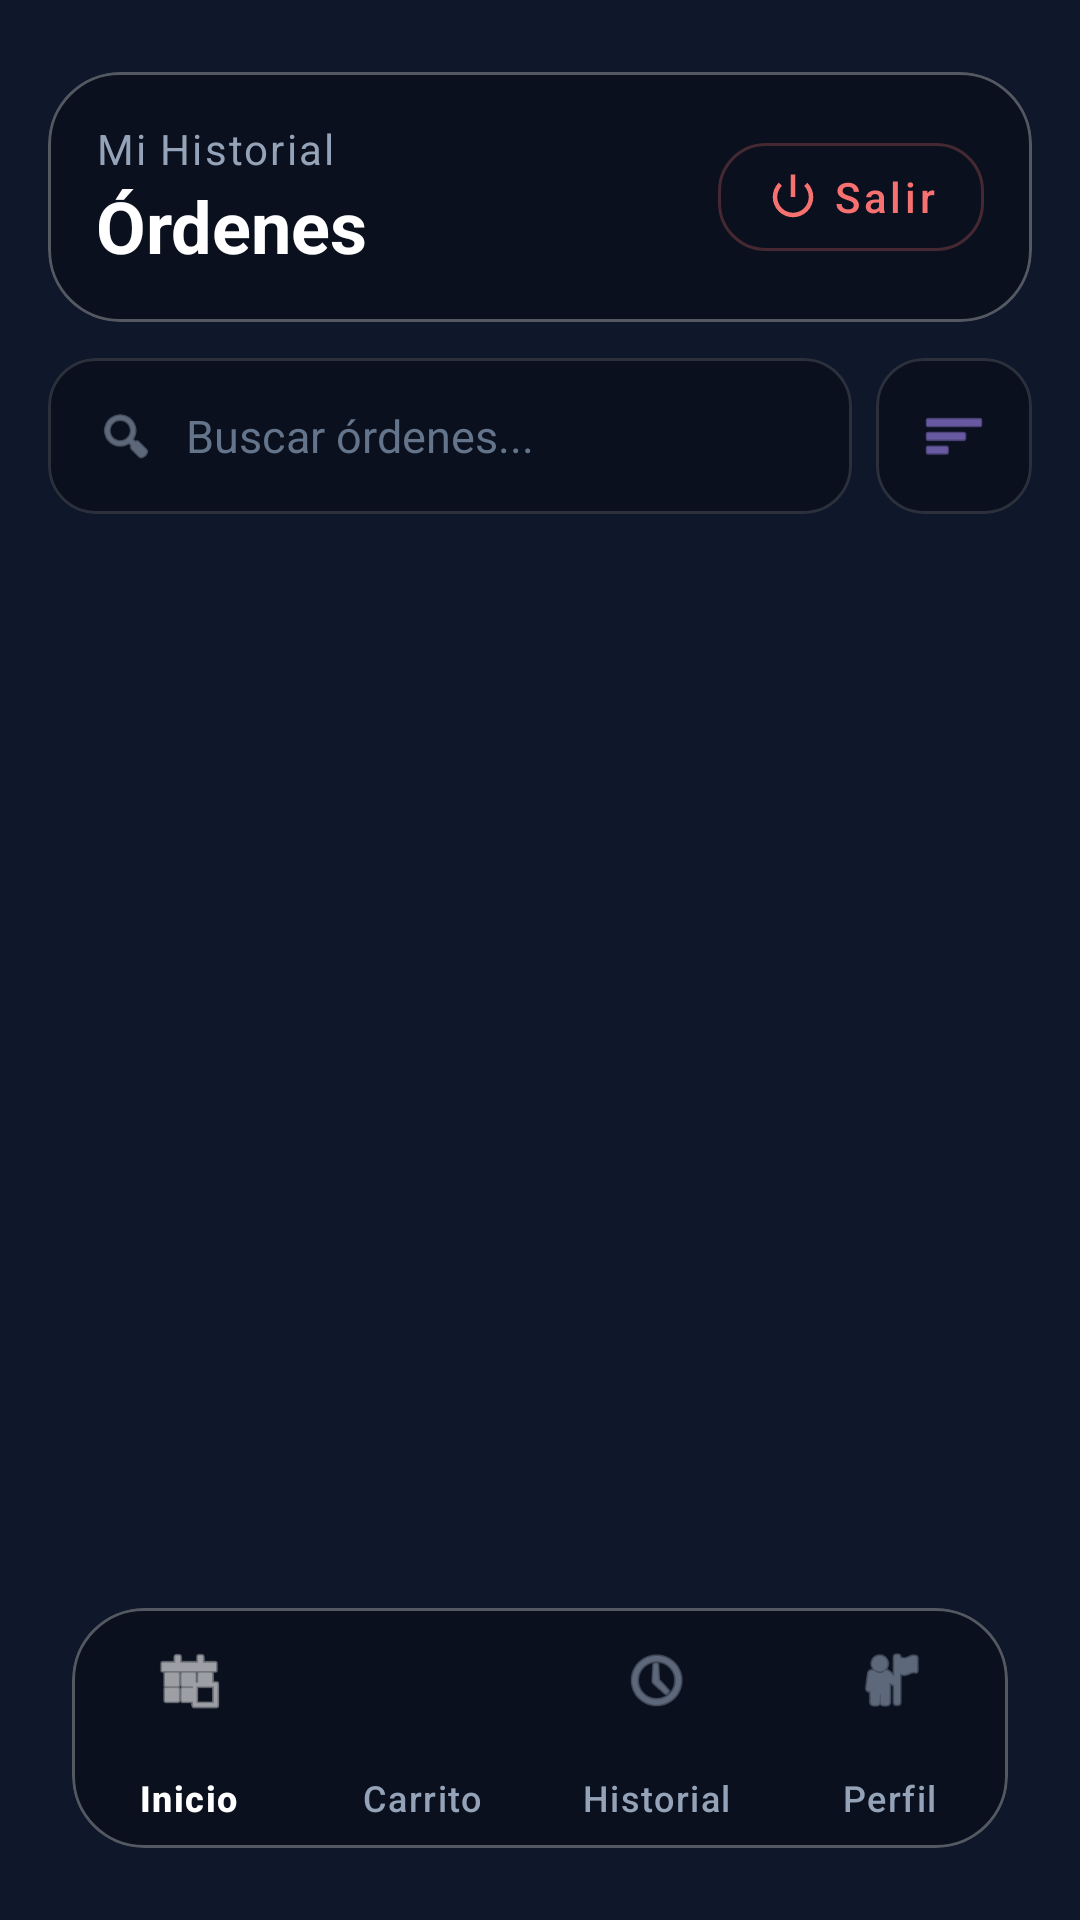

Where icons sit on this 1080×1920 app screen, as (x1, y1, x2, y2):
search: (104, 414, 148, 458)
sort by size: (926, 418, 982, 455)
